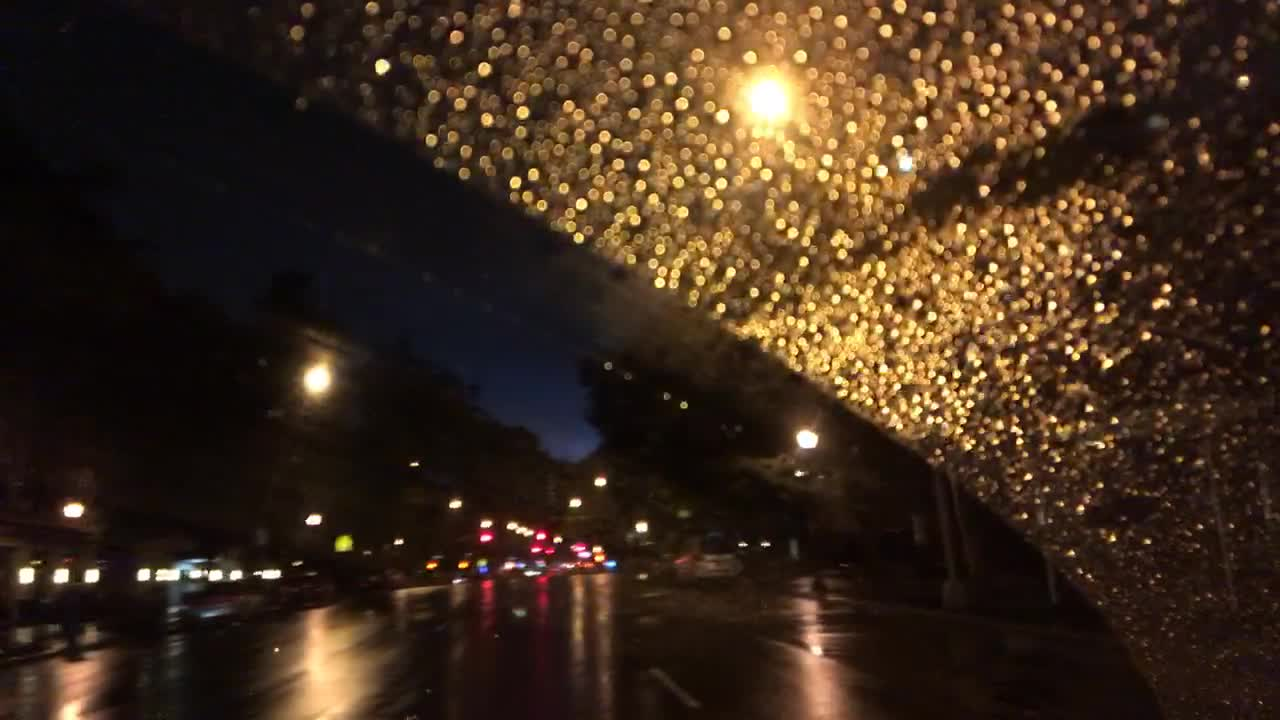car: (671, 532, 741, 587), (575, 557, 600, 575)
traffic light: (474, 526, 496, 543), (573, 540, 589, 552), (534, 530, 549, 542), (527, 543, 542, 555), (543, 542, 554, 555)
traffic sign: (331, 533, 354, 554)
